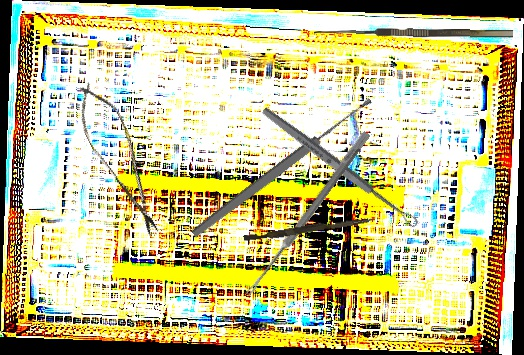Hook Surgical: (313, 26, 513, 49)
Micro Scissor: (64, 75, 175, 243)
Pusher: (243, 212, 376, 245)
Surgical Spoon: (189, 95, 375, 240), (244, 129, 371, 299), (260, 105, 420, 230)
